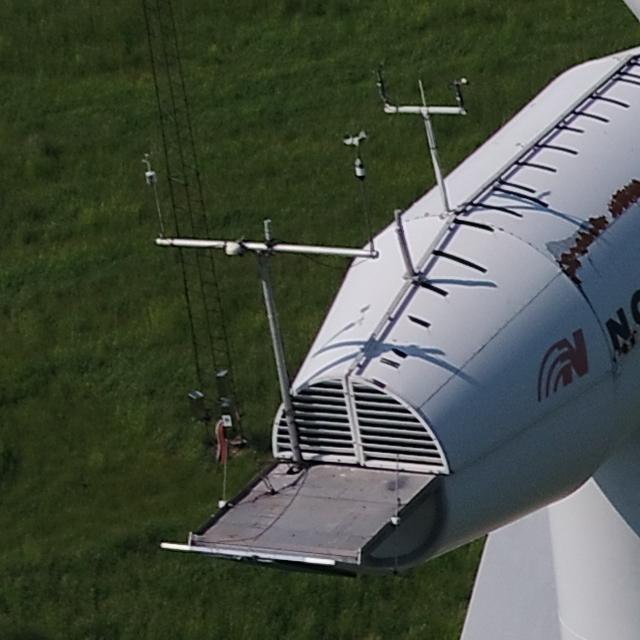damage: (543, 215, 610, 272), (552, 265, 602, 315), (602, 173, 638, 225), (614, 342, 630, 359)
